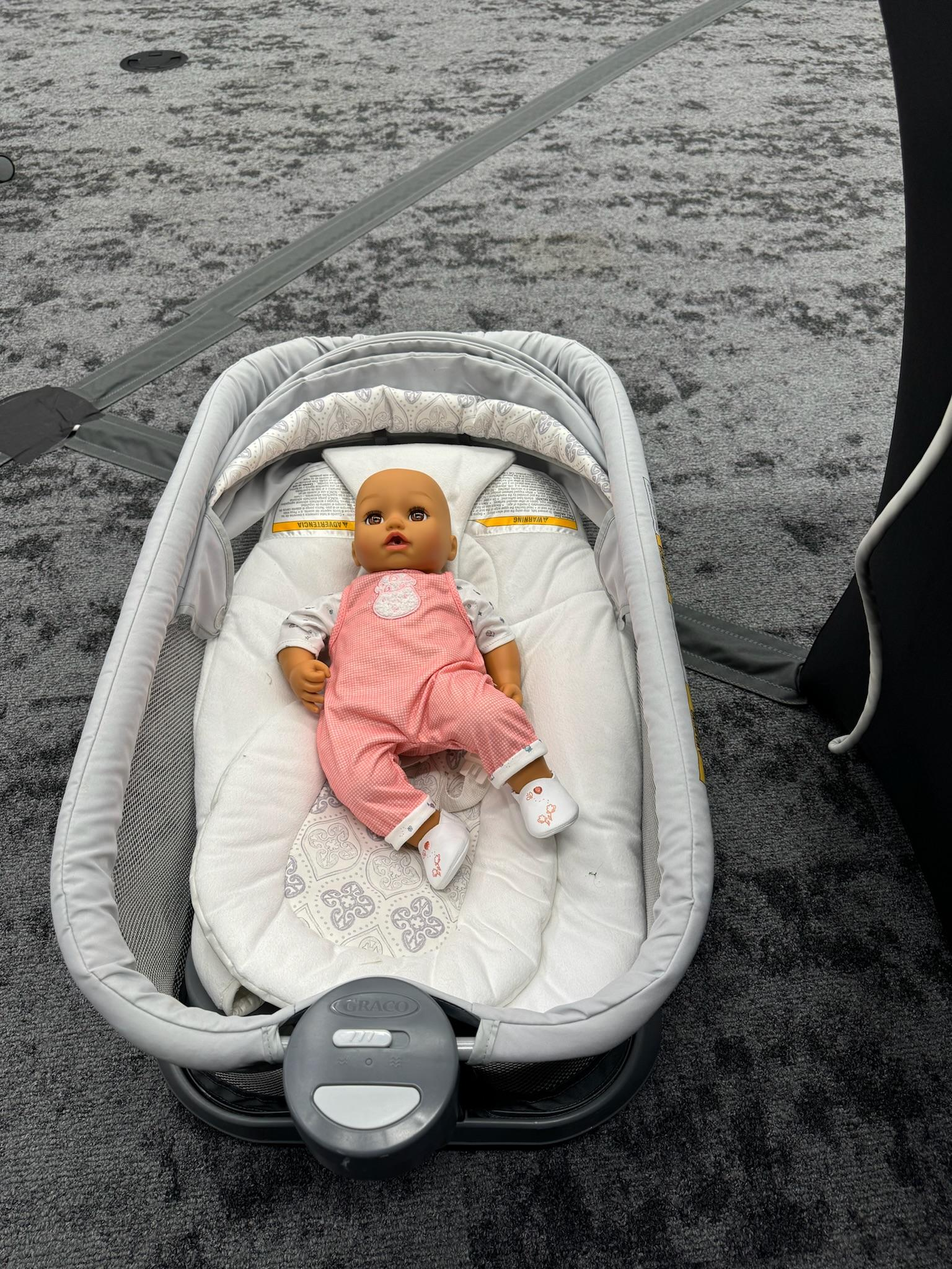baby: (271, 465, 592, 884)
